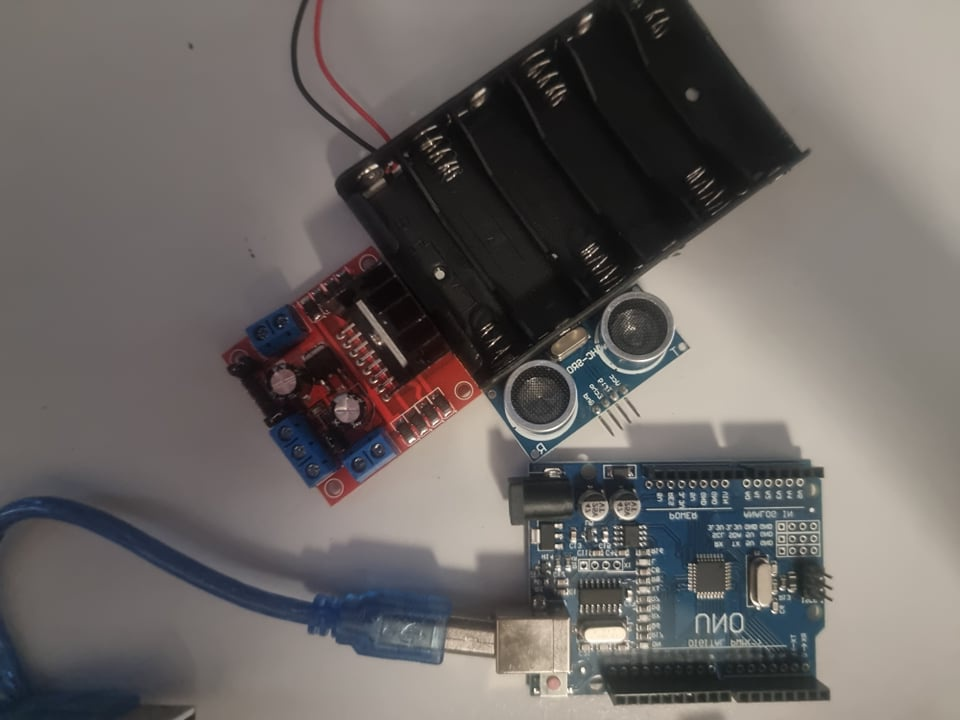BATTERY BOX: (335, 2, 817, 368)
MOTOR: (222, 251, 483, 506)
SENSOR: (495, 287, 690, 463)
UNO R3: (493, 455, 831, 713)
